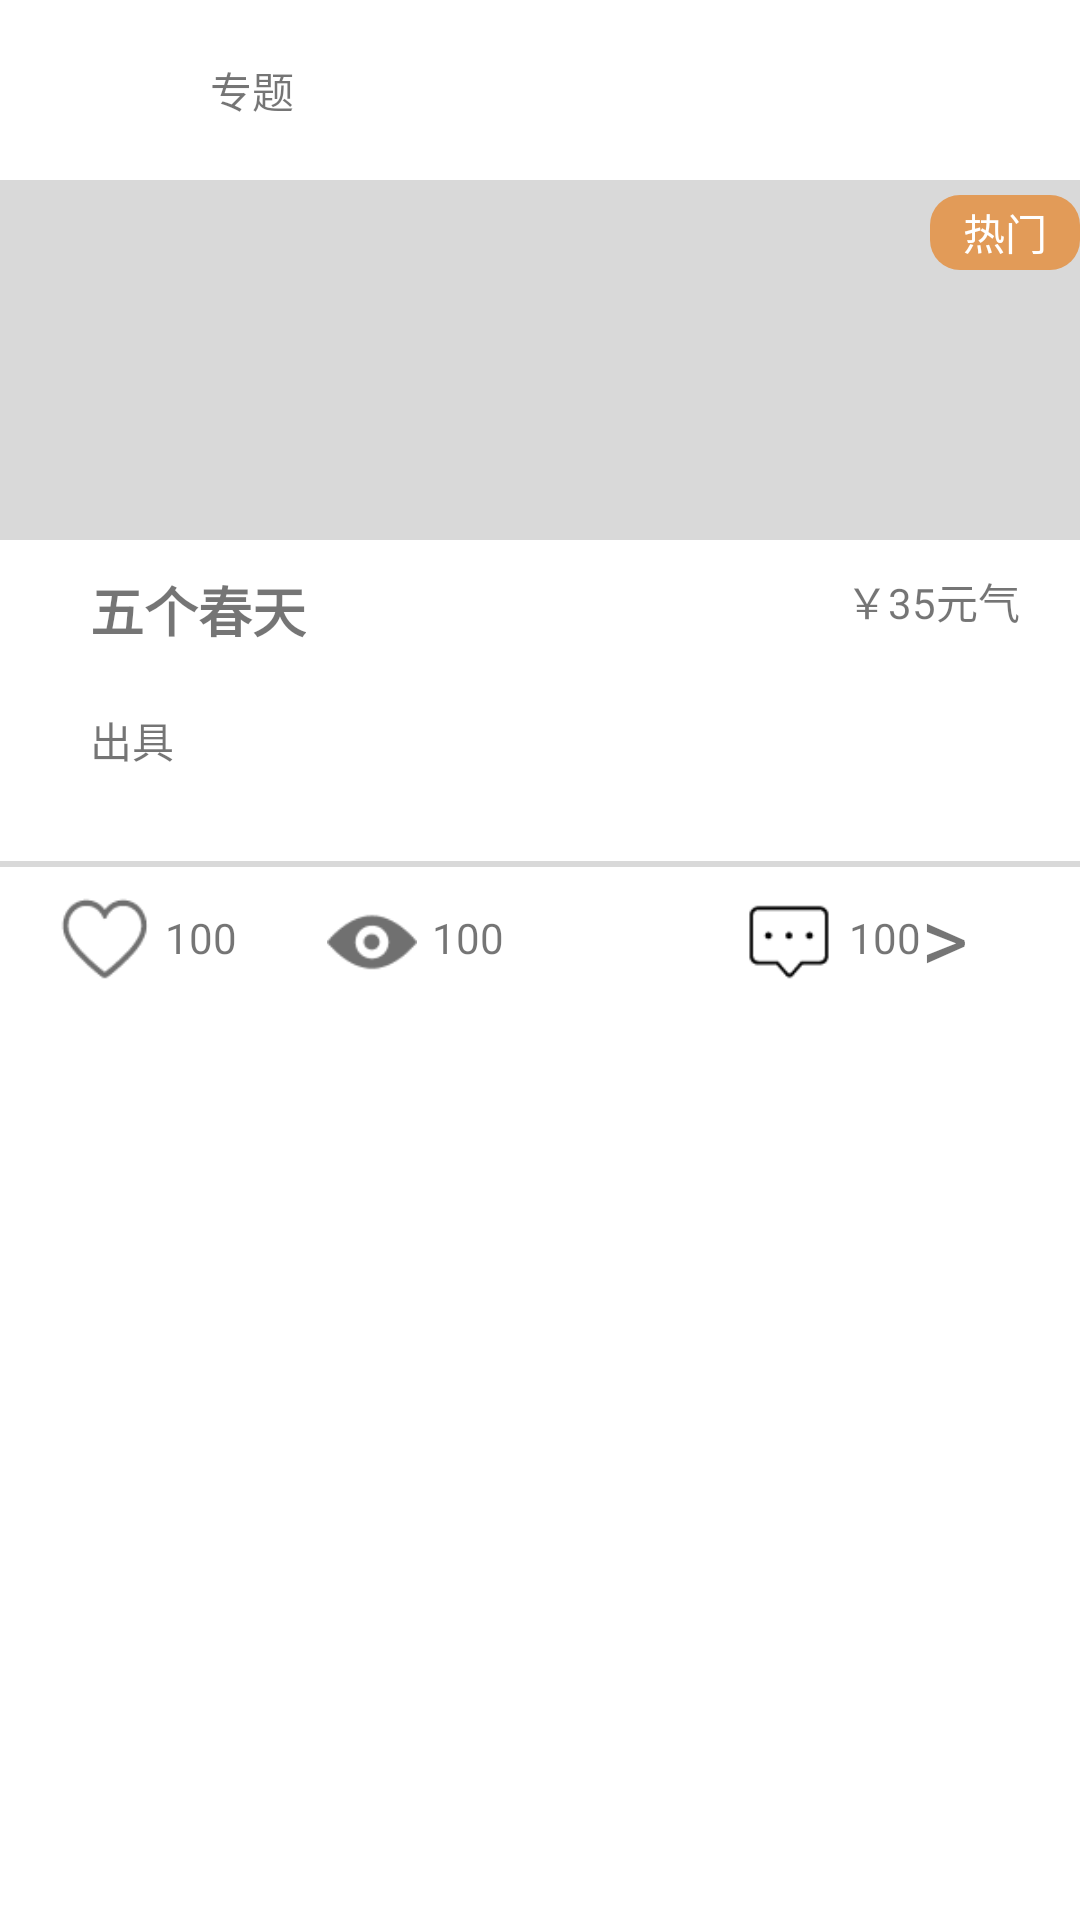

Icons on this 1080*1920 Android screen, each with its box as (x1, y1, x2, y2):
eyes: (327, 915, 417, 969)
nocomment: (749, 905, 829, 979)
xin: (62, 899, 147, 979)
